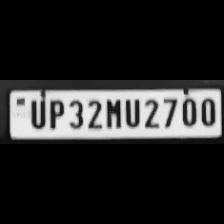0: (178, 95, 198, 127), (197, 96, 217, 127)
2: (141, 96, 161, 130), (85, 97, 103, 130)
3: (64, 96, 84, 130)
7: (159, 96, 177, 128)
M: (102, 96, 122, 130)
P: (44, 97, 64, 130)
U: (26, 97, 46, 129), (122, 96, 142, 128)
